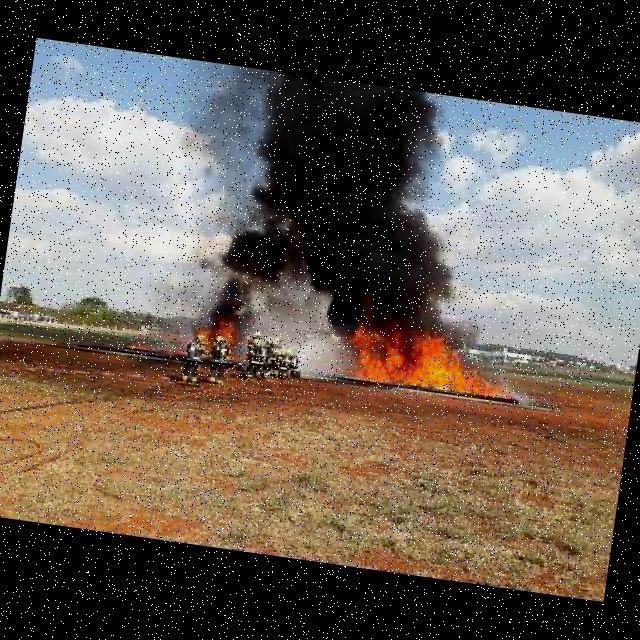Fire: (344, 315, 514, 403), (211, 319, 237, 340), (198, 327, 212, 345), (131, 340, 146, 350)
Smoke: (237, 71, 484, 339), (202, 266, 264, 331)
